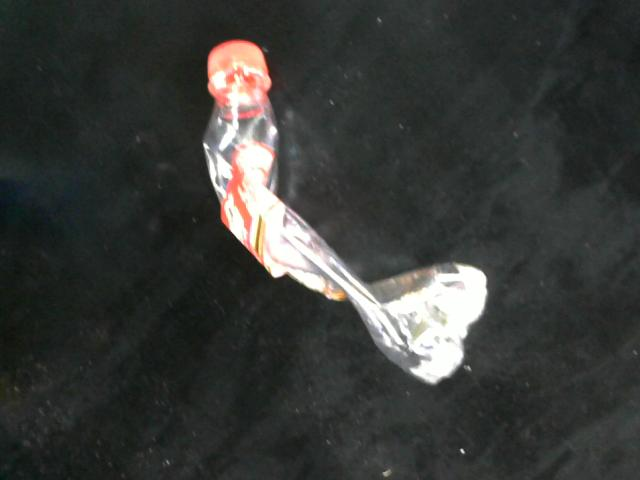bottle: (200, 36, 488, 387)
